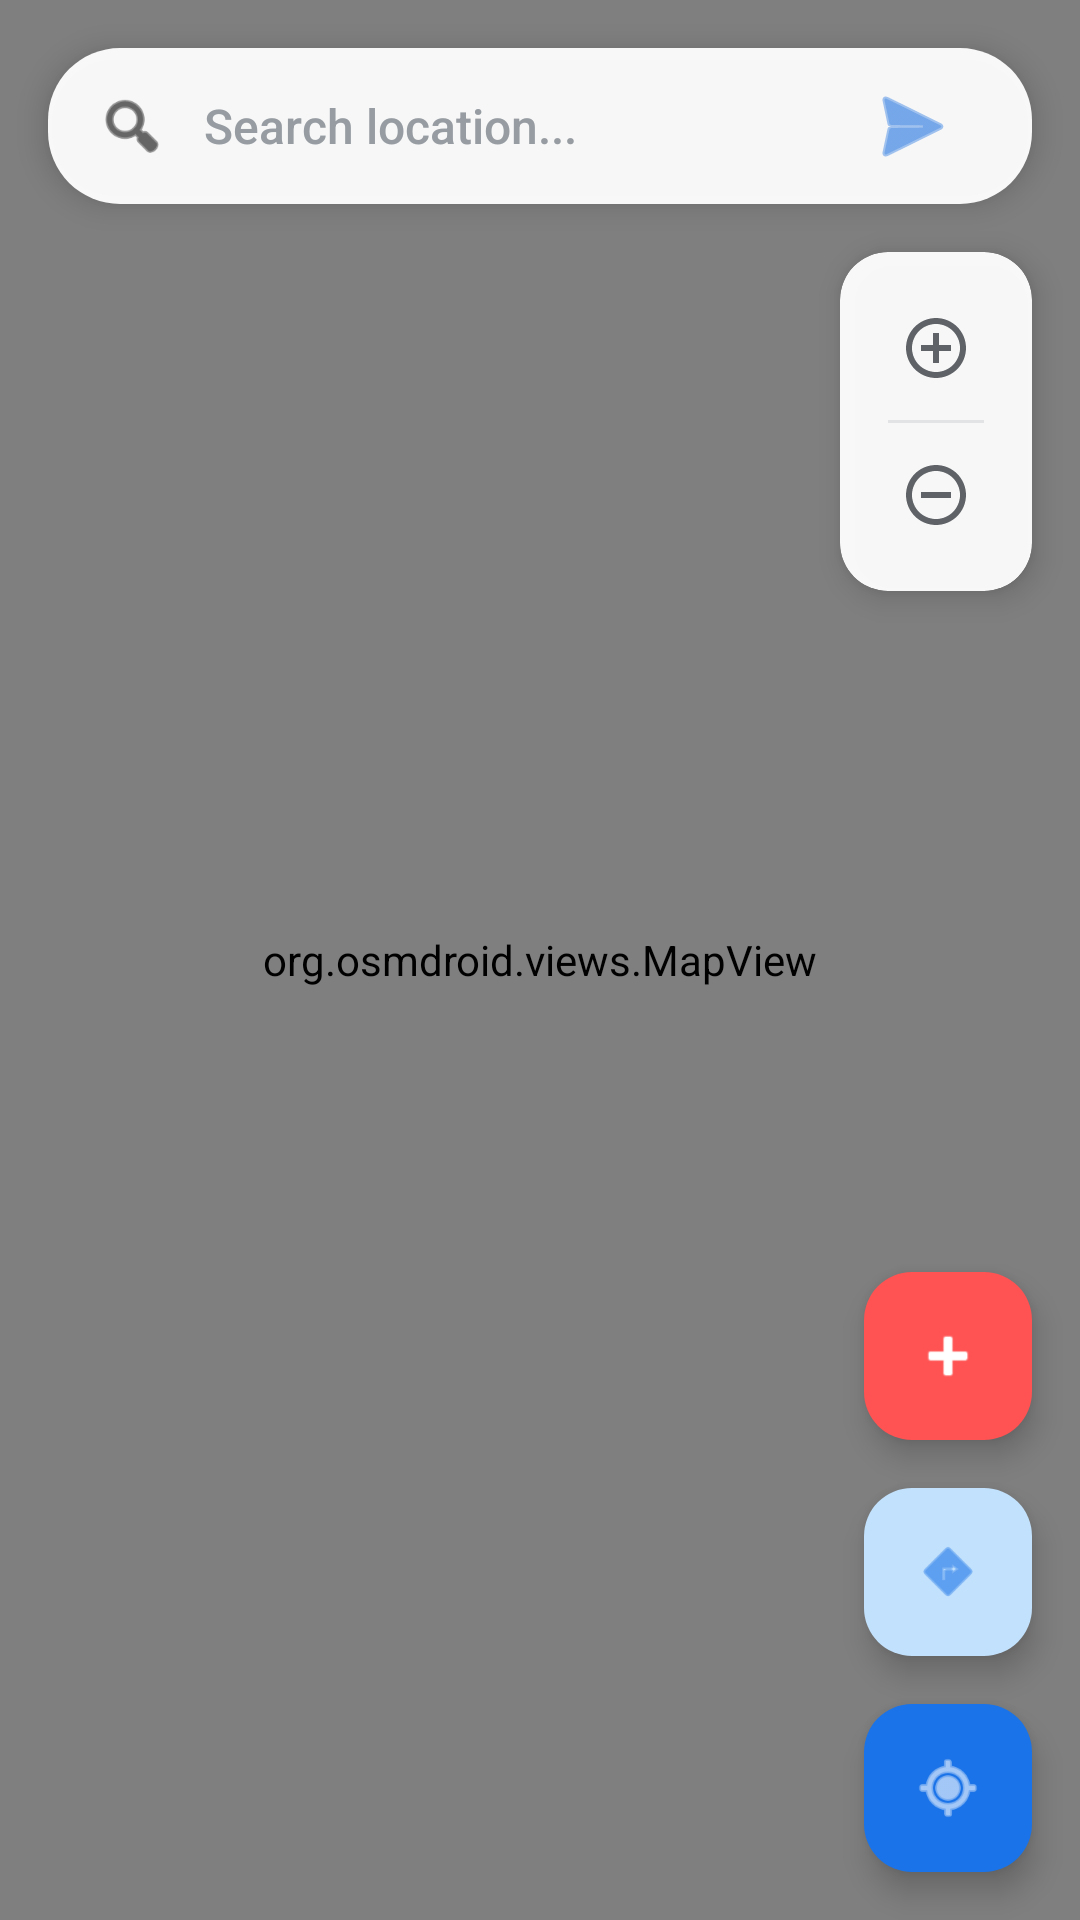

Icons on this 1080 × 1920 Android screen, each with its box as [x1,y1,x2,y2]:
Add Pothole: [864,1272,1032,1440]
Navigate: [864,1488,1032,1656]
send: [882,96,944,157]
Track Location: [864,1704,1032,1872]
Zoom In: [906,318,966,378]
Zoom Out: [906,465,966,525]
